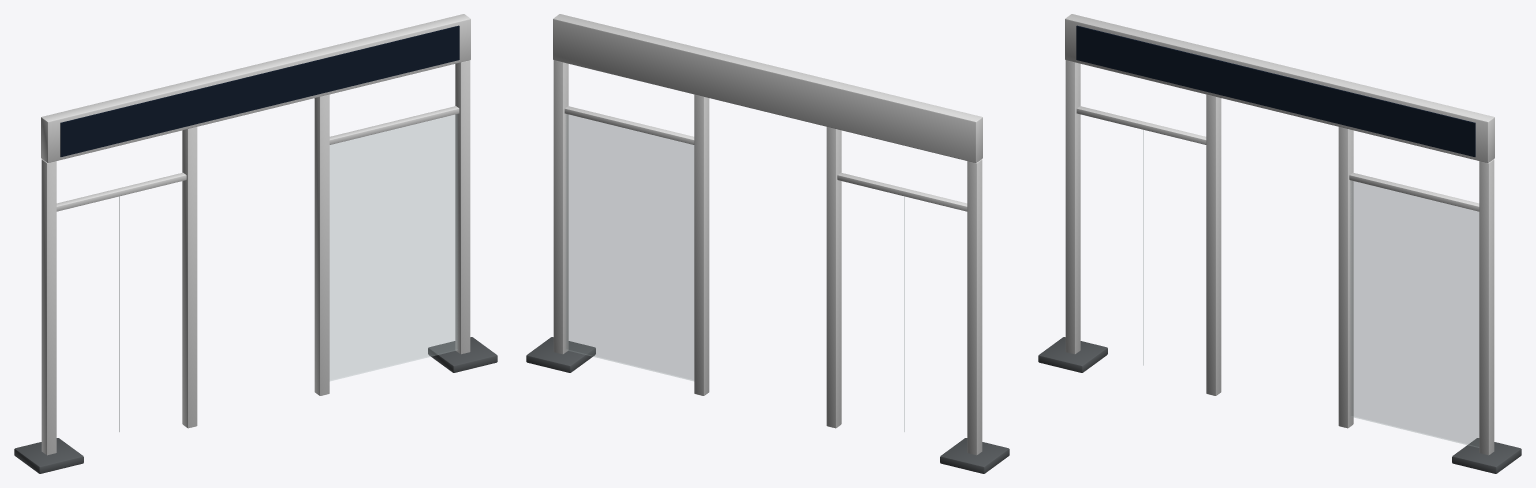
File: marlin_gate_frame.glb
3 renders of one model, left to right at view 1: azimuth 30°, elevation 25°; view 2: azimuth 150°, elevation 25°; view 3: azimuth 330°, elevation 25°, orthographic.
Parts seen in each view (by area): view 1: marlin_gate_frame; view 2: marlin_gate_frame; view 3: marlin_gate_frame.
Boxes of the visible parts, x1,y1,x2,y2 form: marlin_gate_frame: (14,14,497,473); marlin_gate_frame: (526,14,1009,473); marlin_gate_frame: (1038,14,1521,473).
Bounding box in the file's own units: 3.68 × 2.62 × 0.36.
